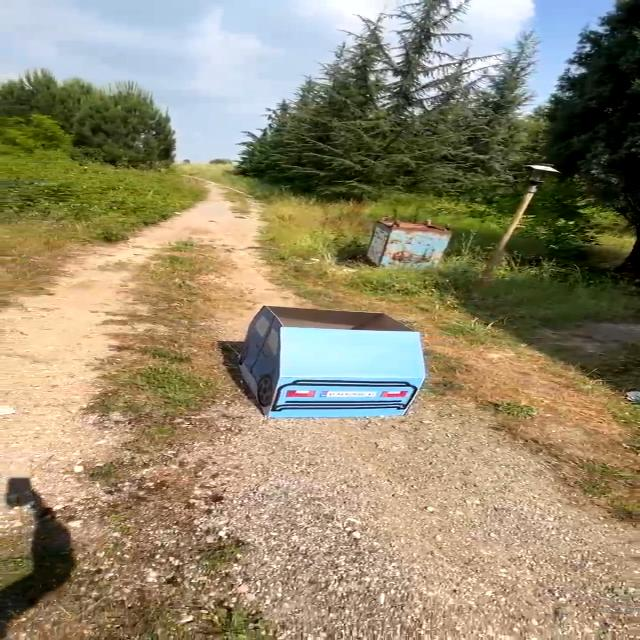blue_car: (216, 292, 448, 426)
